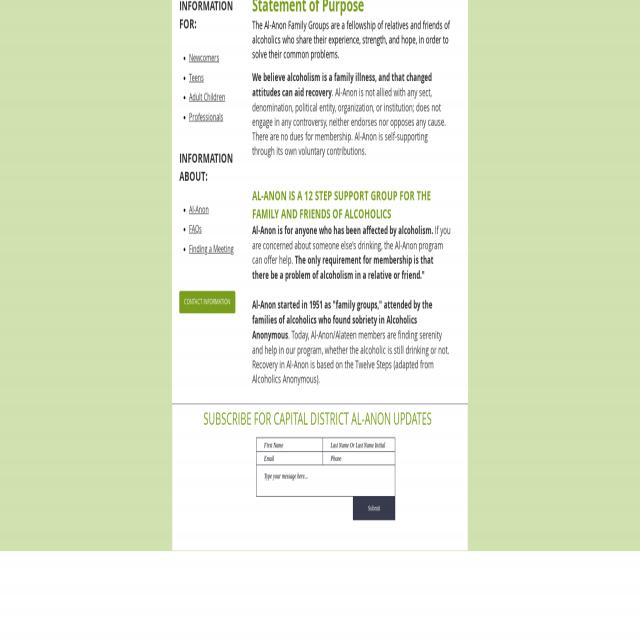button: (179, 291, 235, 313), (353, 497, 395, 520)
field: (256, 465, 395, 497), (256, 451, 323, 465), (323, 438, 395, 451), (323, 452, 395, 465), (256, 438, 324, 451)
